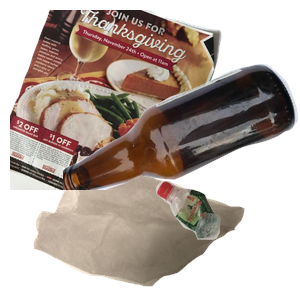glass: (63, 62, 300, 242)
paper: (10, 10, 224, 190)
plastic: (153, 178, 300, 300)
trash: (31, 149, 268, 300)
